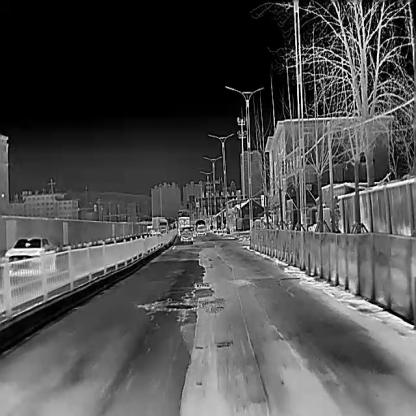car: (4, 236, 55, 274), (180, 228, 192, 239), (197, 225, 205, 234)
truck: (152, 215, 166, 231), (178, 215, 189, 233)
